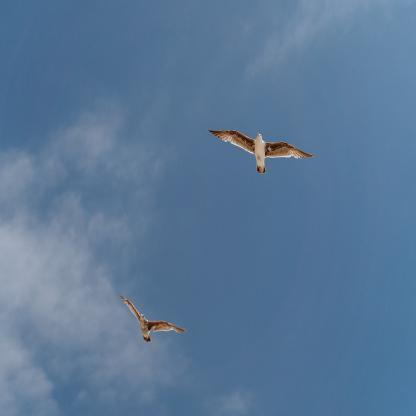bird: (208, 127, 315, 175), (119, 295, 187, 345)
